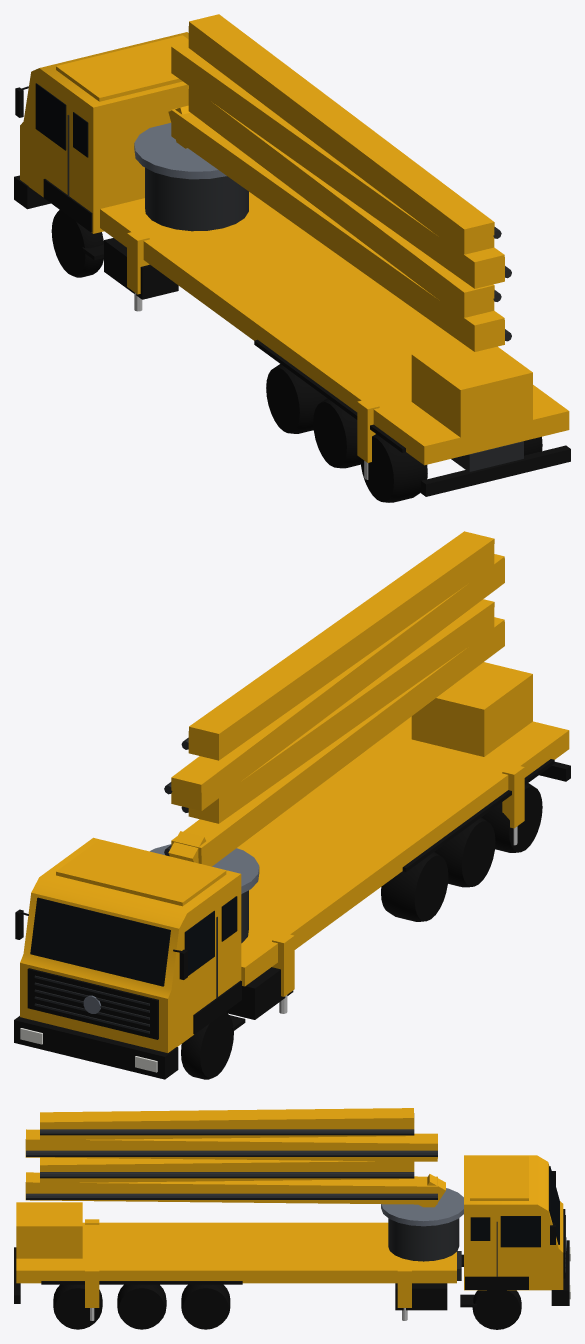
The model's file is plant.truck.concrete_pump.glb.
3 renders of one model, top to bottom at view 1: azimuth 30°, elevation 25°; view 2: azimuth 150°, elevation 25°; view 3: azimuth 270°, elevation 25°, orthographic. The views are drawn at different scales.
Visible parts, largest first — view 1: boom__plant_yellow, body__plant_yellow, chassis__plant_yellow, wheels__rubber, chassis__plastic_black, body__steel_dark, body__steel_painted, chassis__glass_dark, outriggers__plant_yellow, chassis__steel_dark; view 2: boom__plant_yellow, body__plant_yellow, chassis__plant_yellow, chassis__plastic_black, wheels__rubber, chassis__glass_dark, outriggers__plant_yellow, chassis__steel_dark, body__steel_painted; view 3: boom__plant_yellow, body__plant_yellow, boom__steel_dark, chassis__plant_yellow, wheels__rubber, chassis__plastic_black, body__steel_dark, chassis__glass_dark, body__steel_painted, outriggers__plant_yellow, chassis__steel_dark.
Part boxes in pixels (x1,y1,x2,y2): boom__plant_yellow: (168,14,504,351); body__plant_yellow: (100,192,569,465); chassis__plant_yellow: (20,32,188,233); wheels__rubber: (51,210,542,502); chassis__plastic_black: (14,86,570,496); body__steel_dark: (145,167,248,231); body__steel_painted: (134,123,226,179); chassis__glass_dark: (35,83,88,157); outriggers__plant_yellow: (127,230,379,462); chassis__steel_dark: (67,115,523,471); boom__plant_yellow: (168,531,504,866); body__plant_yellow: (237,662,569,986); chassis__plant_yellow: (20,837,241,1052); chassis__plastic_black: (14,759,570,1079); wheels__rubber: (181,783,542,1079); chassis__glass_dark: (30,896,237,986); outriggers__plant_yellow: (272,764,524,996); chassis__steel_dark: (34,916,217,1033); body__steel_painted: (150,844,259,893); boom__plant_yellow: (25,1108,445,1207); body__plant_yellow: (16,1202,456,1283); boom__steel_dark: (26,1129,437,1199); chassis__plant_yellow: (464,1155,563,1290); wheels__rubber: (53,1284,521,1329); chassis__plastic_black: (14,1171,569,1310); body__steel_dark: (388,1218,459,1261); chassis__glass_dark: (470,1166,559,1247); body__steel_painted: (381,1188,463,1226); outriggers__plant_yellow: (85,1219,411,1307); chassis__steel_dark: (457,1215,565,1280).
Size of the model in its own units: 2.79 by 4.51 by 11.76.
